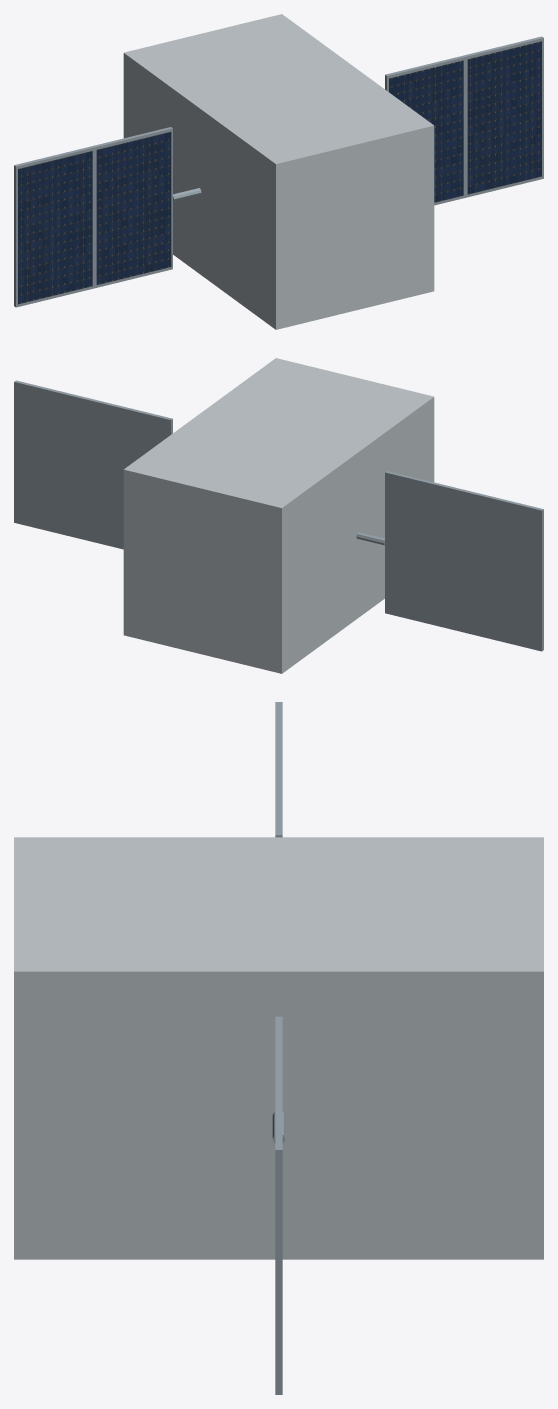
The model's file is ref-hq-58554.glb.
3 renders of one model, top to bottom at view 1: azimuth 30°, elevation 25°; view 2: azimuth 150°, elevation 25°; view 3: azimuth 270°, elevation 25°, orthographic. The views are drawn at different scales.
Parts seen in each view (by area): view 1: Spacecraft body, Photovoltaic laminates (×4), Array frame (×4); view 2: Spacecraft body, Array frame (×4); view 3: Spacecraft body, Array frame.
Part boxes in pixels (bbox=[...]): Spacecraft body: bbox=[123, 14, 434, 329]; Photovoltaic laminates (×4): bbox=[18, 41, 541, 304]; Array frame (×4): bbox=[14, 36, 543, 307]; Spacecraft body: bbox=[123, 358, 434, 673]; Array frame (×4): bbox=[14, 380, 543, 651]; Spacecraft body: bbox=[14, 837, 543, 1259]; Array frame: bbox=[275, 1083, 282, 1394].
Bounding box in the file's own units: 1 × 0.3 × 0.5.
3 materials, 1 textured.
